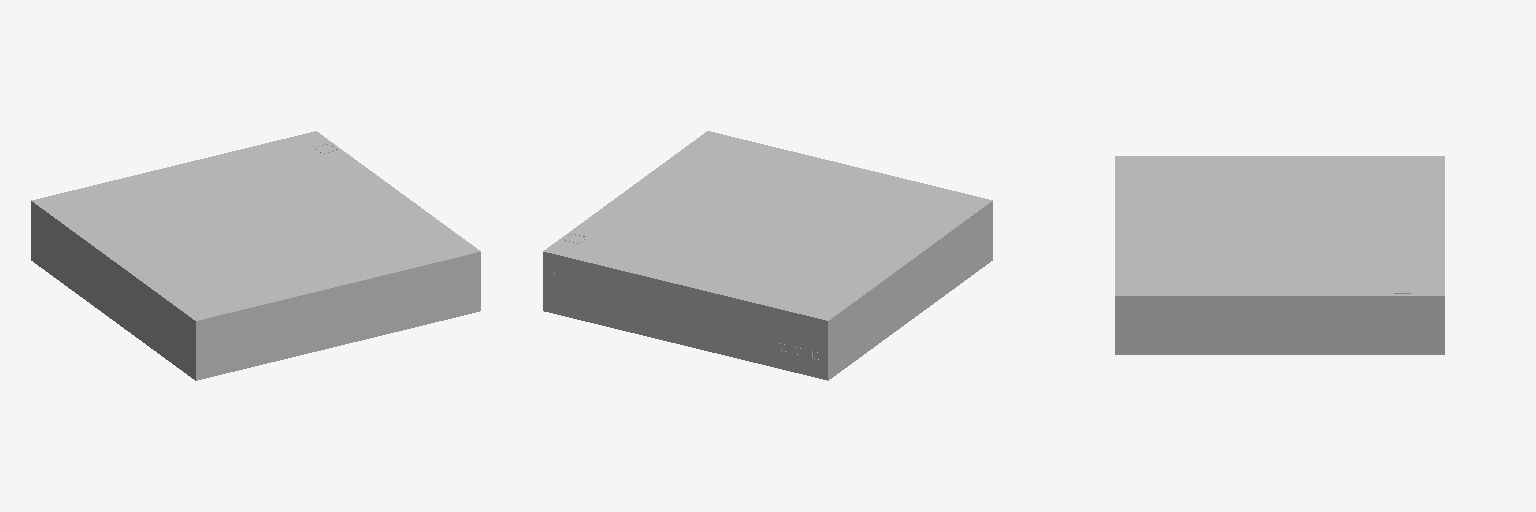
Rendered from emptyroom.obj.
3 renders of one model, left to right at view 1: azimuth 30°, elevation 25°; view 2: azimuth 150°, elevation 25°; view 3: azimuth 270°, elevation 25°, orthographic.
Visible parts, largest first — view 1: Cube; view 2: Cube; view 3: Cube.
Boxes of the visible parts, x1=… form: Cube: x1=31, y1=131, x2=480, y2=380; Cube: x1=543, y1=131, x2=992, y2=380; Cube: x1=1115, y1=156, x2=1444, y2=354.
Size of the model in its own units: 20 by 4.06 by 20.03.